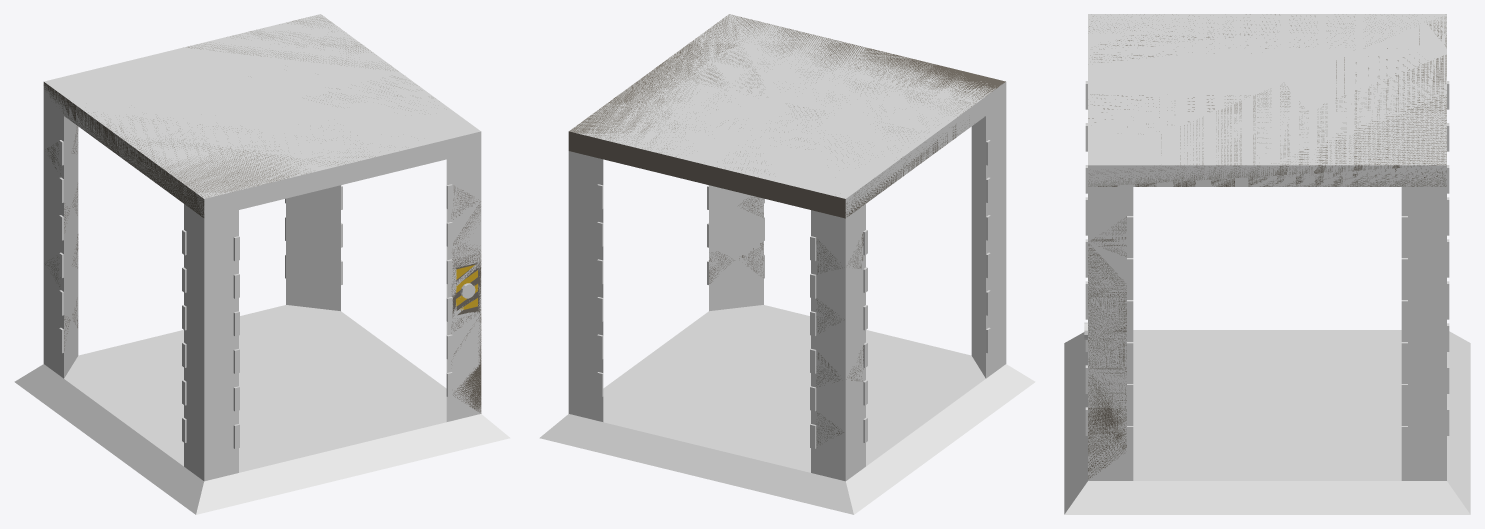
File: Jaula_Laser2 - copia.fbx
3 views of the same model, side by side, from view 1: azimuth 30°, elevation 25°; view 2: azimuth 150°, elevation 25°; view 3: azimuth 270°, elevation 25° (orthographic). The views are drawn at different scales.
Parts seen in each view (by area): view 1: Cube.005, Cube.006, Cube.004, Cube.003, Cube.002; view 2: Cube.006, Cube.005, Cube.004, Cube.003, Cube.002; view 3: Cube.005, Cube.006, Cube.004, Cube.002, Cube.003.
Part boxes in pixels (<box>): Cube.005: <box>43,14,481,218</box>; Cube.006: <box>14,305,510,514</box>; Cube.004: <box>43,101,481,481</box>; Cube.003: <box>43,17,481,413</box>; Cube.002: <box>16,335,199,513</box>; Cube.006: <box>539,305,1034,514</box>; Cube.005: <box>569,14,1006,217</box>; Cube.004: <box>568,101,1006,481</box>; Cube.003: <box>568,14,1005,444</box>; Cube.002: <box>850,377,1034,514</box>; Cube.005: <box>1088,14,1446,186</box>; Cube.006: <box>1064,330,1470,514</box>; Cube.004: <box>1085,81,1449,480</box>; Cube.002: <box>1065,330,1468,514</box>; Cube.003: <box>1088,14,1446,479</box>.
Size of the model in its own units: 159 by 147 by 159.
